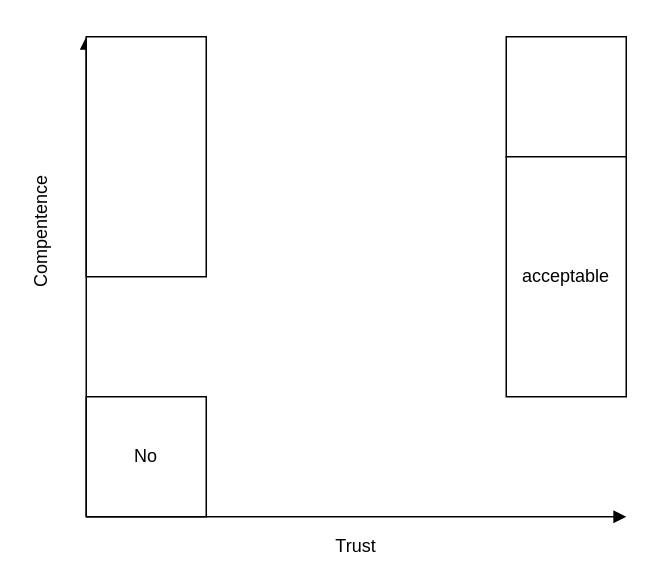
The diagram is 665 pixels wide and 588 high, and some of its shapes have lost their labels. Here are the shapes that lost their labels. From the top down, the box of each, then its label:
(505, 35, 626, 157): ideal
(85, 35, 206, 277): avoid
